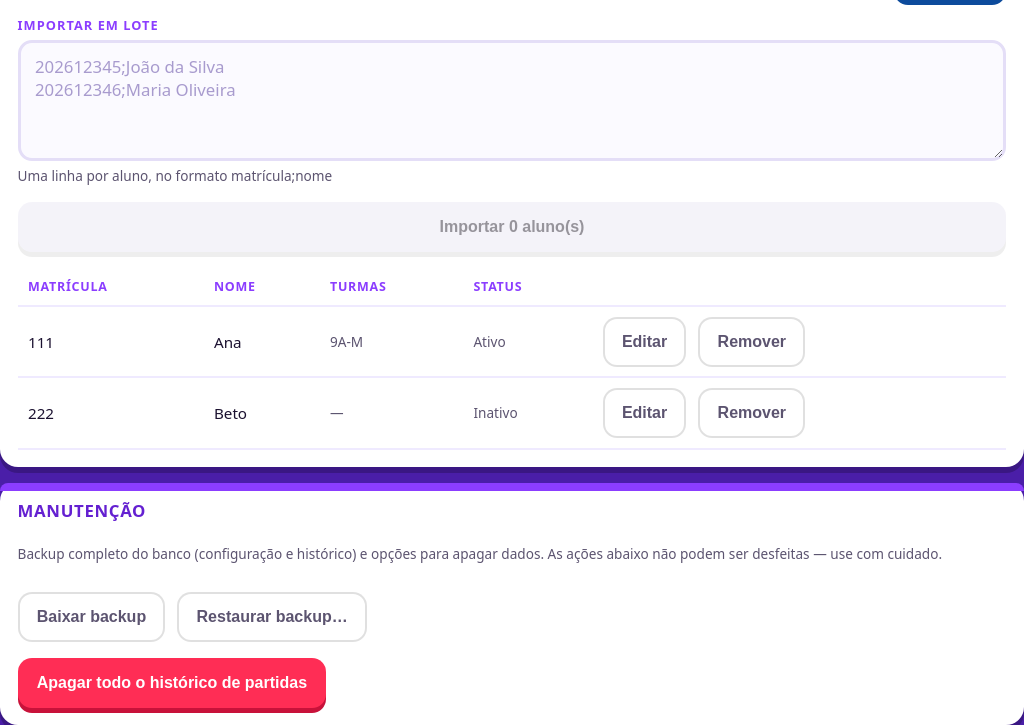
ConfigPanel — Alunos › cancels editing a student without saving
(page scrolled)
Step 1. Click the button "Editar" in the row of "111" → (645, 342), box [603,317,686,367]
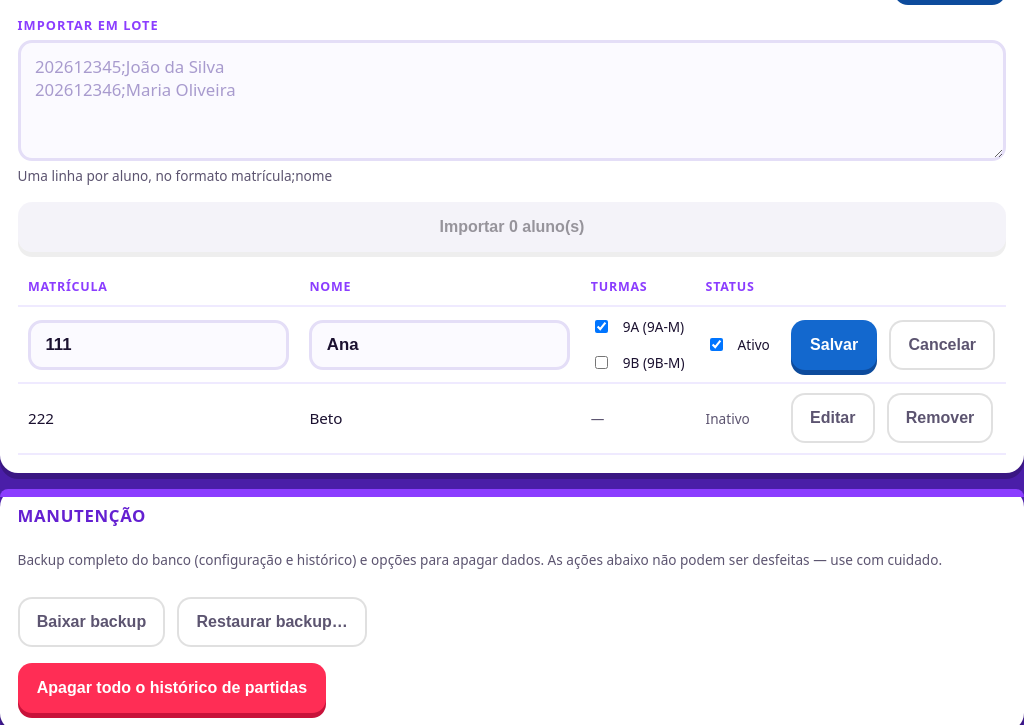
Step 2. Click the button "Cancelar" → (942, 345), box [889,320,995,370]
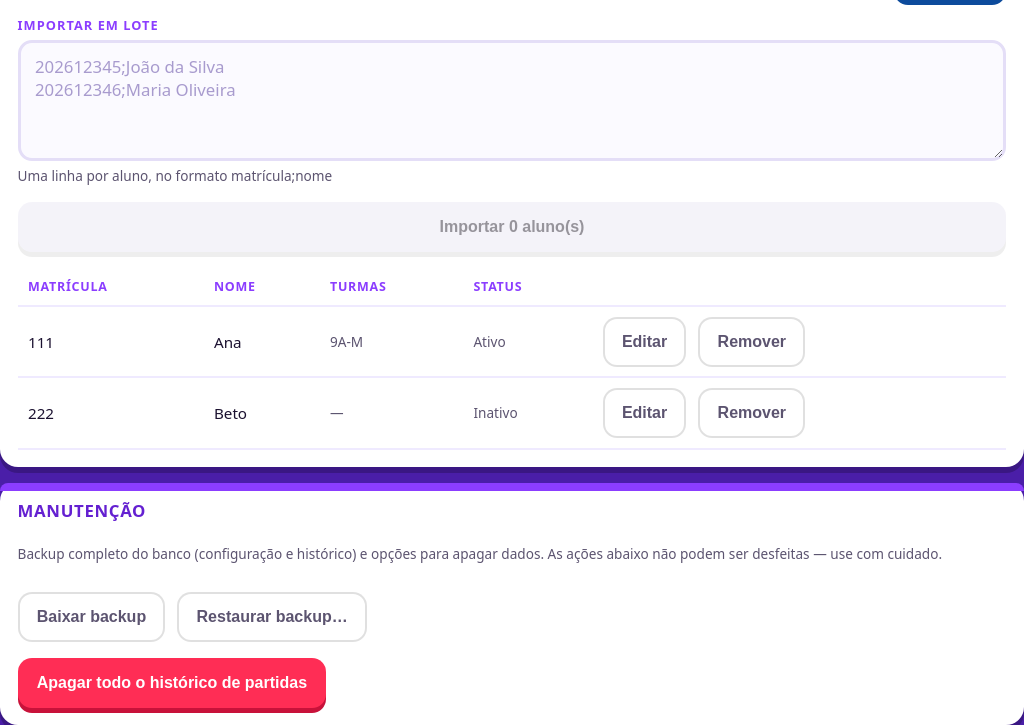
Expected: the text "Ana" is shown, [204,306,320,378]
